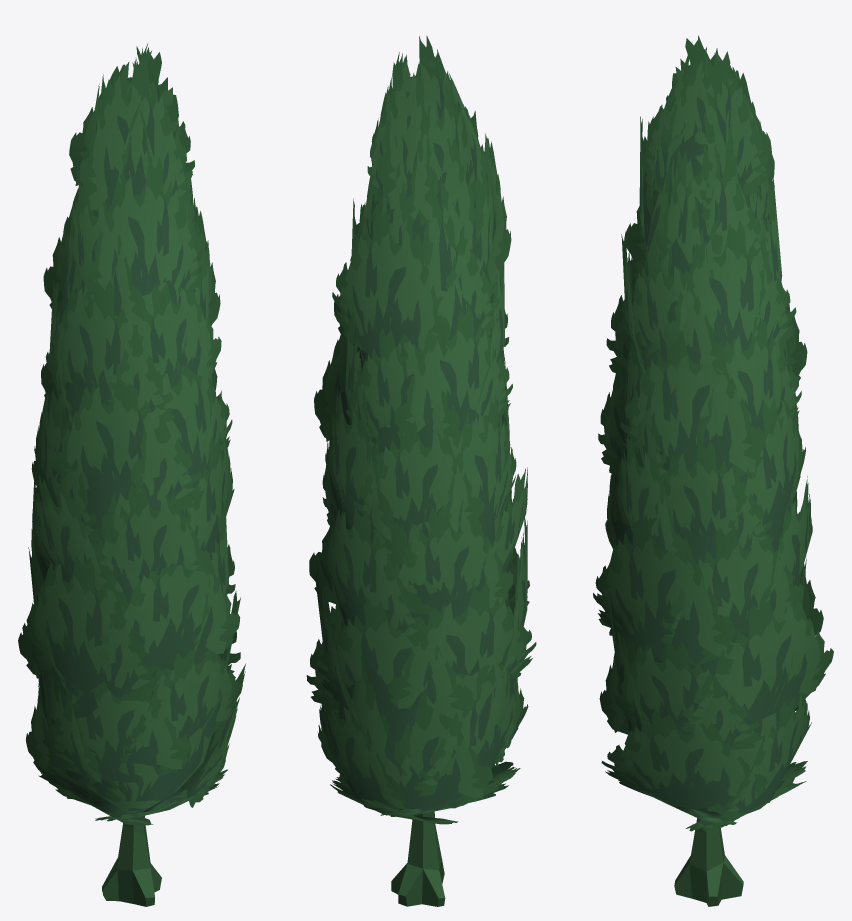
Rendered from SM_Env_Conifer_02.fbx.
3 views of the same model, side by side, from view 1: azimuth 30°, elevation 25°; view 2: azimuth 150°, elevation 25°; view 3: azimuth 270°, elevation 25° (orthographic).
Visible parts, largest first — view 1: SM_Env_Conifer_02_LOD0; view 2: SM_Env_Conifer_02_LOD0; view 3: SM_Env_Conifer_02_LOD0.
Part boxes in pixels (left/top/right/bottom): SM_Env_Conifer_02_LOD0: left=18, top=43, right=245, bottom=906; SM_Env_Conifer_02_LOD0: left=306, top=35, right=536, bottom=906; SM_Env_Conifer_02_LOD0: left=593, top=35, right=833, bottom=906.
Size of what is drawn, in the model's own units: 242 by 977 by 256.
